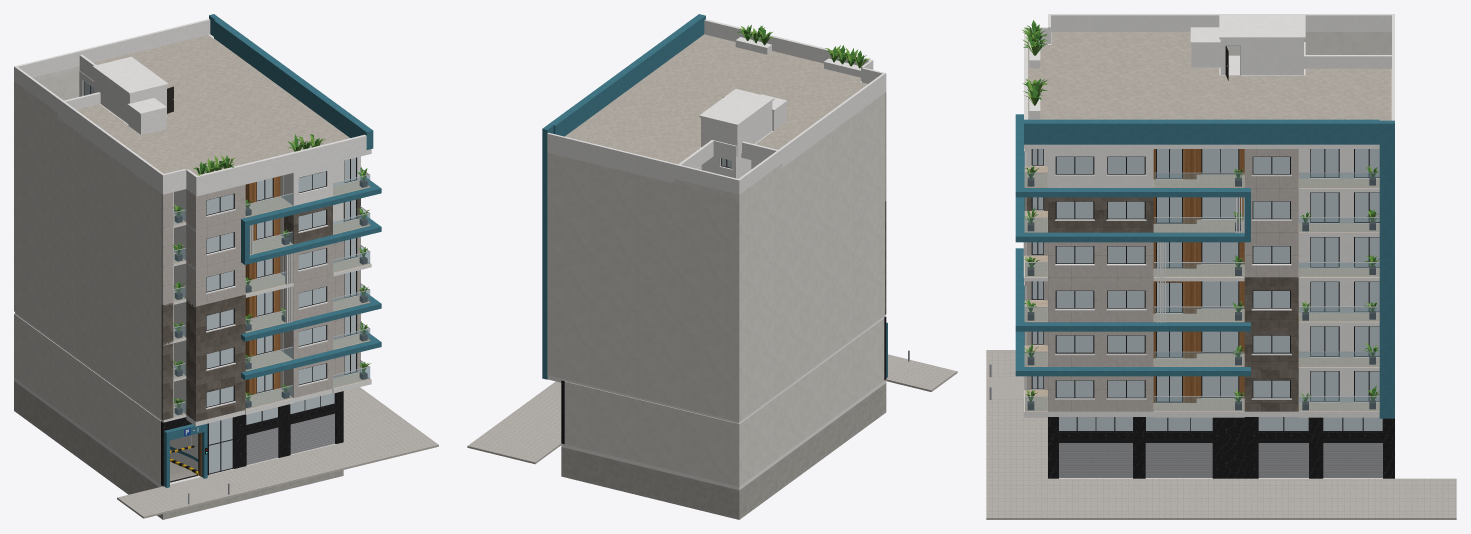
The model's file is Imara_Teal_R6_D5.fbx.
3 renders of one model, left to right at view 1: azimuth 30°, elevation 25°; view 2: azimuth 150°, elevation 25°; view 3: azimuth 270°, elevation 25°, orthographic. The views are drawn at different scales.
Visible parts, largest first — view 1: TOIT_Roof_Concrete, TOIT_Render_White, Site_Sidewalk, RDC_Party_Walls, N6_Party_Walls, N4_Party_Walls, N5_Party_Walls, N2_Party_Walls, N3_Party_Walls, N1_Party_Walls, SS_Parking_Concrete, TOIT_Teal_Frames (+46 smaller); view 2: RDC_Party_Walls, TOIT_Roof_Concrete, TOIT_Render_White, N1_Party_Walls, N3_Party_Walls, N4_Party_Walls, N2_Party_Walls, N5_Party_Walls, N6_Party_Walls, SS_Parking_Concrete, Site_Sidewalk, TOIT_Teal_Frames (+5 smaller); view 3: Site_Sidewalk, TOIT_Roof_Concrete, TOIT_Render_White, TOIT_Teal_Frames, RDC_Shutters_Metal, RDC_Marble_Black_RDC, N3_Window_Glass, N6_Window_Glass, N2_Window_Glass, N1_Window_Glass, N5_Window_Glass, N4_Window_Glass (+51 smaller).
Part boxes in pixels (x1,y1,x2,y2): TOIT_Roof_Concrete: [76, 34, 349, 175]; TOIT_Render_White: [14, 19, 371, 196]; Site_Sidewalk: [117, 387, 438, 518]; RDC_Party_Walls: [14, 313, 161, 484]; N6_Party_Walls: [14, 71, 161, 226]; N4_Party_Walls: [14, 158, 161, 303]; N5_Party_Walls: [14, 119, 161, 265]; N2_Party_Walls: [14, 235, 161, 380]; N3_Party_Walls: [14, 196, 161, 342]; N1_Party_Walls: [14, 273, 161, 418]; SS_Parking_Concrete: [14, 381, 343, 519]; TOIT_Teal_Frames: [209, 14, 373, 149]; RDC_Party_Walls: [564, 318, 884, 486]; TOIT_Roof_Concrete: [565, 34, 867, 164]; TOIT_Render_White: [547, 19, 886, 199]; N1_Party_Walls: [547, 277, 884, 421]; N3_Party_Walls: [547, 202, 884, 345]; N4_Party_Walls: [547, 164, 884, 308]; N2_Party_Walls: [547, 240, 884, 383]; N5_Party_Walls: [547, 126, 884, 270]; N6_Party_Walls: [547, 93, 884, 232]; SS_Parking_Concrete: [561, 383, 886, 519]; Site_Sidewalk: [467, 354, 957, 464]; TOIT_Teal_Frames: [542, 14, 705, 147]; Site_Sidewalk: [986, 350, 1456, 519]; TOIT_Roof_Concrete: [1028, 32, 1391, 120]; TOIT_Render_White: [1024, 14, 1394, 148]; TOIT_Teal_Frames: [1024, 119, 1394, 144]; RDC_Shutters_Metal: [1059, 443, 1382, 477]; RDC_Marble_Black_RDC: [1048, 417, 1394, 478]; N3_Window_Glass: [1032, 281, 1379, 312]; N6_Window_Glass: [1032, 149, 1379, 177]; N2_Window_Glass: [1032, 326, 1379, 356]; N1_Window_Glass: [1032, 371, 1379, 401]; N5_Window_Glass: [1032, 192, 1379, 222]; N4_Window_Glass: [1032, 237, 1379, 267].
Size of what is drawn, in the model's own units: 25.75 by 30.25 by 30.5.
Materials: 56 (20 with a texture image).
